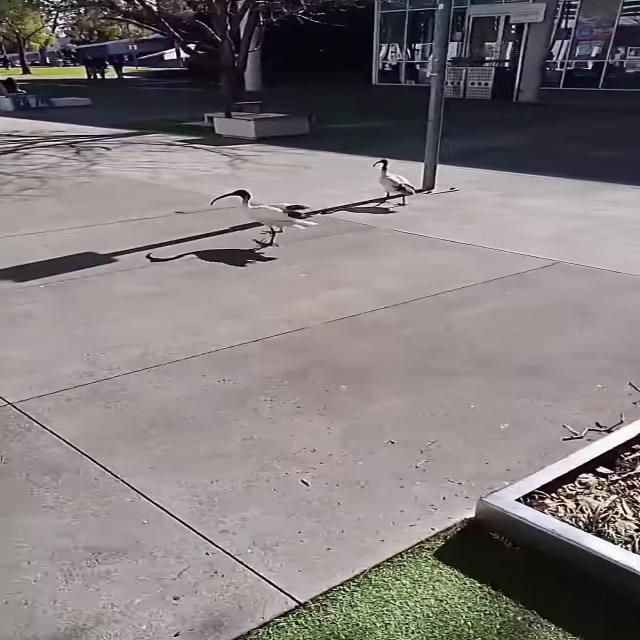Birds-Ibis: (206, 184, 326, 252), (362, 155, 423, 208)
